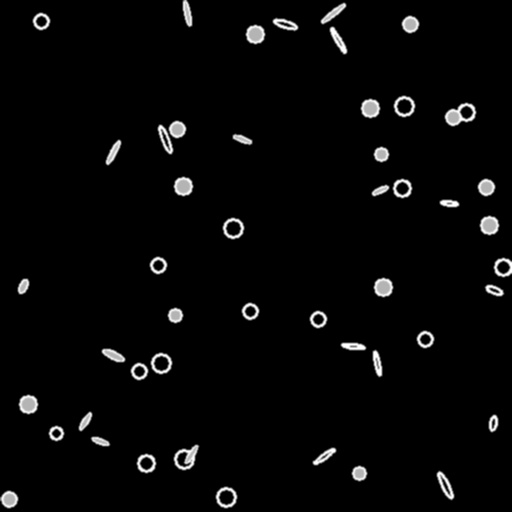pseudomonas: (321, 2, 345, 24), (436, 471, 454, 499), (157, 124, 173, 154), (329, 27, 347, 53), (313, 447, 335, 465), (105, 140, 121, 164), (101, 347, 125, 363), (273, 17, 297, 31), (183, 444, 199, 464), (182, 0, 192, 26), (78, 412, 92, 430), (372, 351, 382, 375), (485, 284, 503, 296), (372, 184, 388, 196), (17, 278, 29, 294), (233, 134, 251, 144), (342, 342, 364, 350), (92, 436, 108, 446), (489, 415, 497, 431), (441, 200, 457, 206)
synechocystis: (175, 450, 193, 468), (217, 488, 235, 506), (152, 354, 170, 372), (224, 219, 242, 237), (395, 97, 413, 115), (458, 104, 474, 120), (495, 259, 511, 275), (362, 100, 378, 116), (394, 180, 410, 196), (138, 455, 154, 471), (375, 279, 391, 295), (20, 396, 36, 412), (175, 178, 191, 194), (481, 217, 497, 233), (247, 26, 263, 42), (151, 258, 165, 272), (34, 14, 48, 28), (2, 492, 16, 506), (243, 304, 257, 318), (479, 180, 493, 194), (311, 312, 325, 326), (132, 364, 146, 378), (170, 122, 184, 136), (403, 17, 417, 31), (418, 332, 432, 346), (446, 110, 460, 124), (50, 427, 62, 439), (353, 467, 365, 479), (169, 309, 181, 321), (375, 148, 387, 160)
